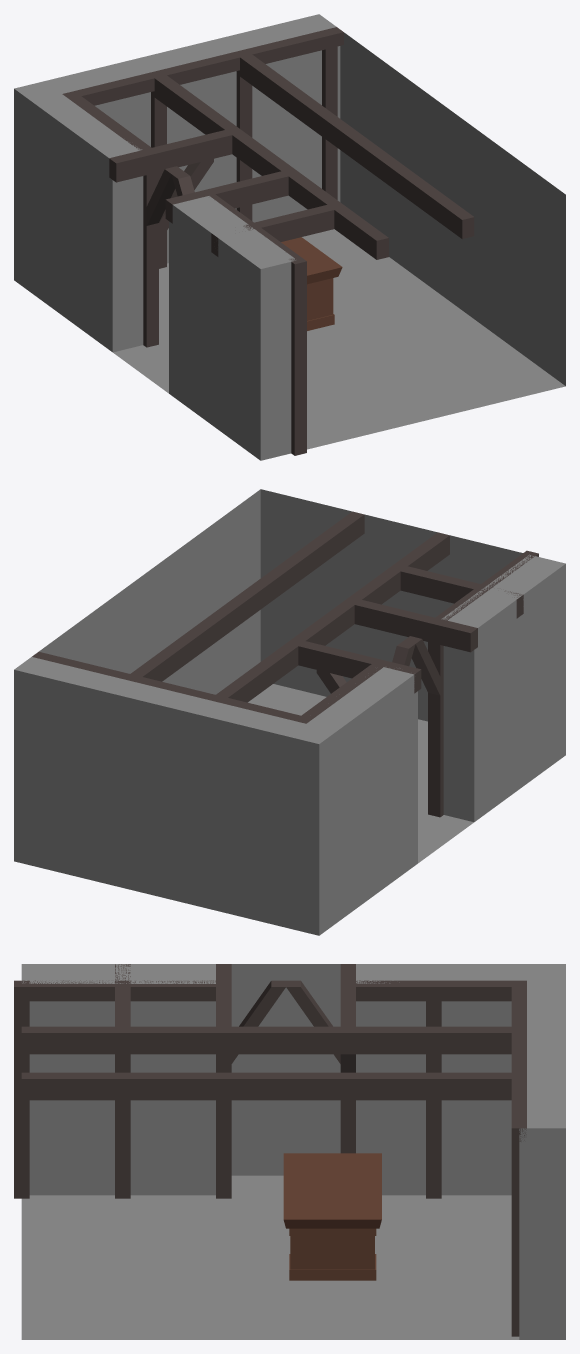
Rendered from study_alcove.gltf.
3 renders of one model, top to bottom at view 1: azimuth 30°, elevation 25°; view 2: azimuth 150°, elevation 25°; view 3: azimuth 270°, elevation 25°, orthographic. The views are drawn at different scales.
Parts seen in each view (by area): view 1: Cube.002, Cube, Cube.005, DoorwayCover0, Cube.006, Cube.001; view 2: Cube.002, Cube, Cube.005, DoorwayCover1, DoorwayCover0, Cube.006; view 3: Cube, Cube.002, Cube.005, Cube.001, Cube.006.
Part boxes in pixels (box(x1,y1,x2,y2)): Cube.002: box(14, 14, 340, 460); Cube: box(113, 32, 565, 449); Cube.005: box(109, 52, 474, 259); DoorwayCover0: box(354, 40, 460, 308); Cube.006: box(62, 27, 343, 258); Cube.001: box(281, 237, 342, 330); Cube.002: box(14, 550, 565, 935); Cube: box(39, 489, 522, 863); Cube.005: box(127, 511, 523, 702); DoorwayCover1: box(321, 504, 504, 721); DoorwayCover0: box(49, 567, 154, 673); Cube.006: box(32, 553, 534, 723); Cube: box(21, 964, 519, 1339); Cube.002: box(14, 964, 565, 1339); Cube.005: box(21, 964, 519, 1100); Cube.001: box(283, 1153, 381, 1280); Cube.006: box(22, 980, 526, 1142).
Size of the model in its own units: 5 by 3 by 7.1.
